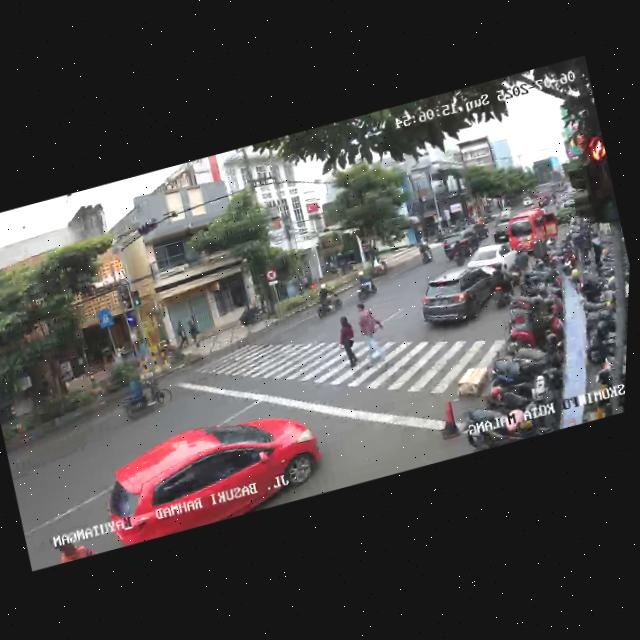car: (92, 396, 332, 548), (411, 256, 517, 337), (459, 231, 526, 288), (503, 201, 564, 257), (439, 222, 488, 267), (486, 219, 513, 246)
motorcycle: (114, 366, 172, 422), (483, 261, 520, 312), (503, 245, 539, 288), (308, 280, 344, 320), (350, 267, 379, 300), (413, 234, 437, 268), (448, 239, 467, 267)
person: (350, 296, 389, 360), (332, 312, 365, 370)
